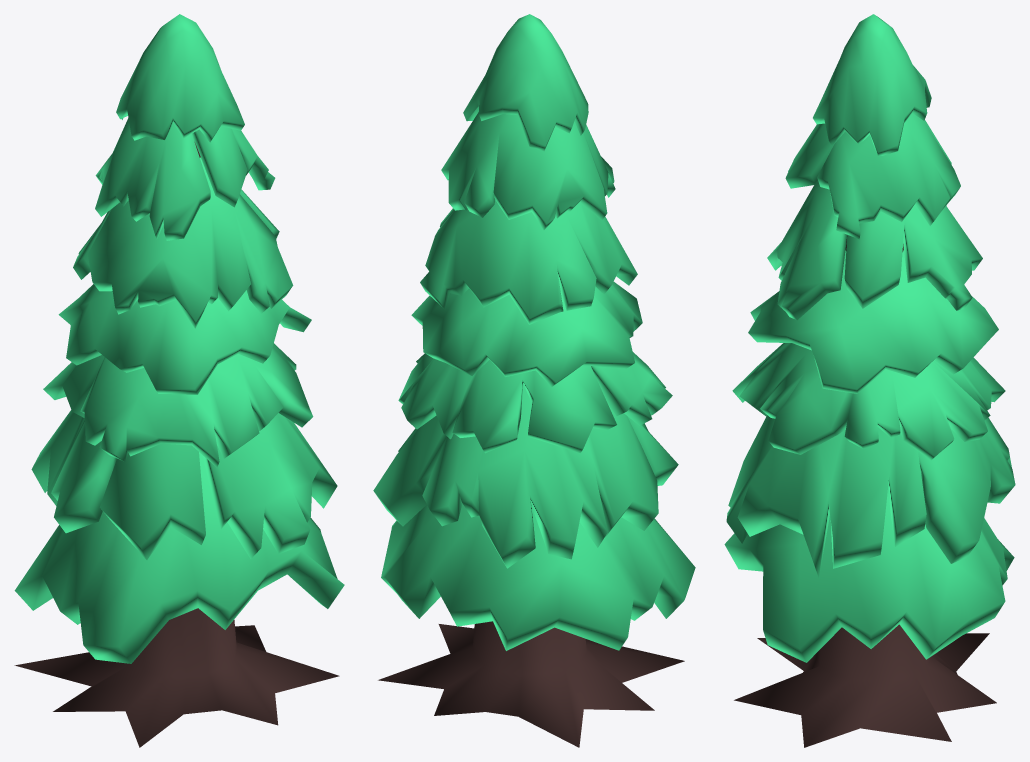
File: tree.glb
3 renders of one model, left to right at view 1: azimuth 30°, elevation 25°; view 2: azimuth 150°, elevation 25°; view 3: azimuth 270°, elevation 25°, orthographic.
Parts seen in each view (by area): view 1: Plane.001, Plane, Cylinder, Plane.003, Plane.006, Plane.002, Plane.005, Plane.004; view 2: Plane, Plane.001, Cylinder, Plane.003, Plane.006, Plane.002, Plane.005, Plane.004; view 3: Plane.001, Plane, Plane.006, Cylinder, Plane.002, Plane.003, Plane.005, Plane.004.
Boxes of the visible parts, x1=… form: Plane.001: x1=31, y1=410, x2=337, y2=559; Plane: x1=14, y1=452, x2=344, y2=663; Cylinder: x1=14, y1=142, x2=339, y2=747; Plane.003: x1=73, y1=157, x2=293, y2=328; Plane.006: x1=43, y1=343, x2=313, y2=467; Plane.002: x1=58, y1=284, x2=311, y2=394; Plane.005: x1=95, y1=118, x2=275, y2=240; Plane.004: x1=116, y1=14, x2=244, y2=142; Plane: x1=381, y1=503, x2=695, y2=650; Plane.001: x1=373, y1=384, x2=678, y2=568; Cylinder: x1=378, y1=621, x2=684, y2=747; Plane.003: x1=420, y1=200, x2=637, y2=324; Plane.006: x1=398, y1=352, x2=672, y2=453; Plane.002: x1=411, y1=281, x2=642, y2=386; Plane.005: x1=441, y1=112, x2=615, y2=229; Plane.004: x1=463, y1=14, x2=588, y2=151; Plane.001: x1=726, y1=415, x2=1015, y2=577; Plane: x1=724, y1=490, x2=1014, y2=662; Plane.006: x1=732, y1=343, x2=1005, y2=460; Cylinder: x1=734, y1=236, x2=996, y2=747; Plane.002: x1=748, y1=250, x2=998, y2=393; Plane.003: x1=767, y1=181, x2=982, y2=320; Plane.005: x1=785, y1=113, x2=960, y2=239; Plane.004: x1=813, y1=14, x2=931, y2=156.
Size of the model in its own units: 5.43 by 12.77 by 5.01.
